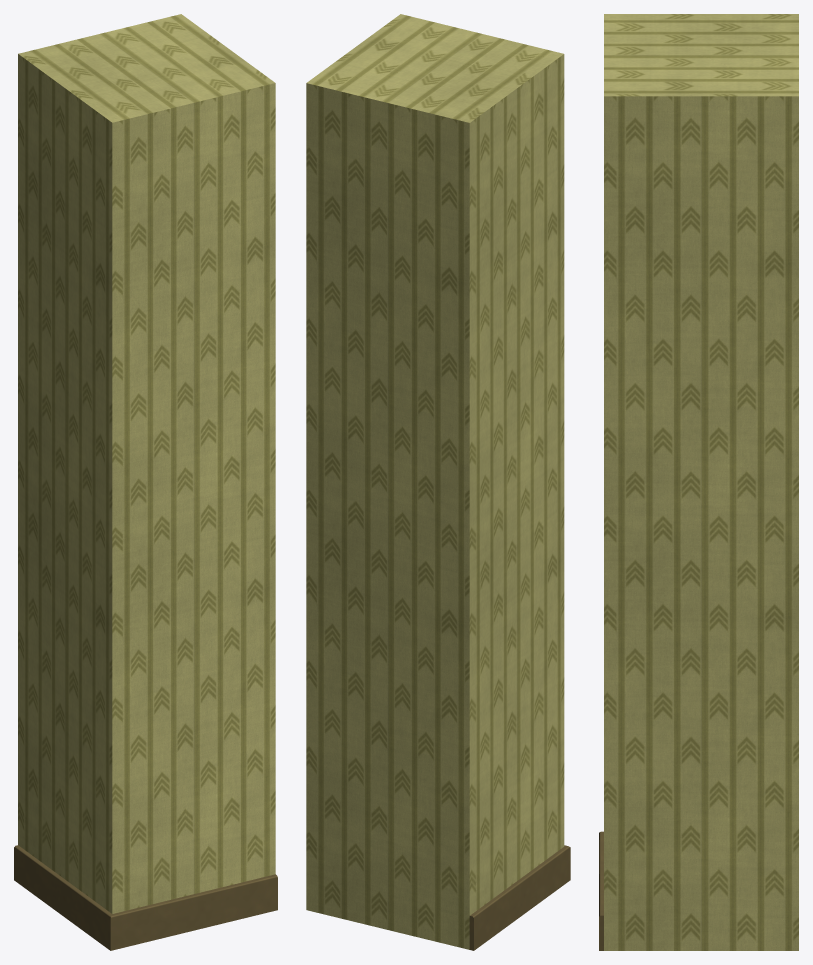
Rendered from SM_L0_Wall_Corner.fbx.
3 views of the same model, side by side, from view 1: azimuth 30°, elevation 25°; view 2: azimuth 150°, elevation 25°; view 3: azimuth 270°, elevation 25° (orthographic). The views are drawn at different scales.
Parts seen in each view (by area): view 1: SM_L0_Wall_Corner; view 2: SM_L0_Wall_Corner; view 3: SM_L0_Wall_Corner.
Part boxes in pixels (<box>): SM_L0_Wall_Corner: <box>14,14,277,950</box>; SM_L0_Wall_Corner: <box>306,14,570,950</box>; SM_L0_Wall_Corner: <box>599,14,798,950</box>.
Size of what is drawn, in the model's own units: 0.615 by 2.9 by 0.615.
